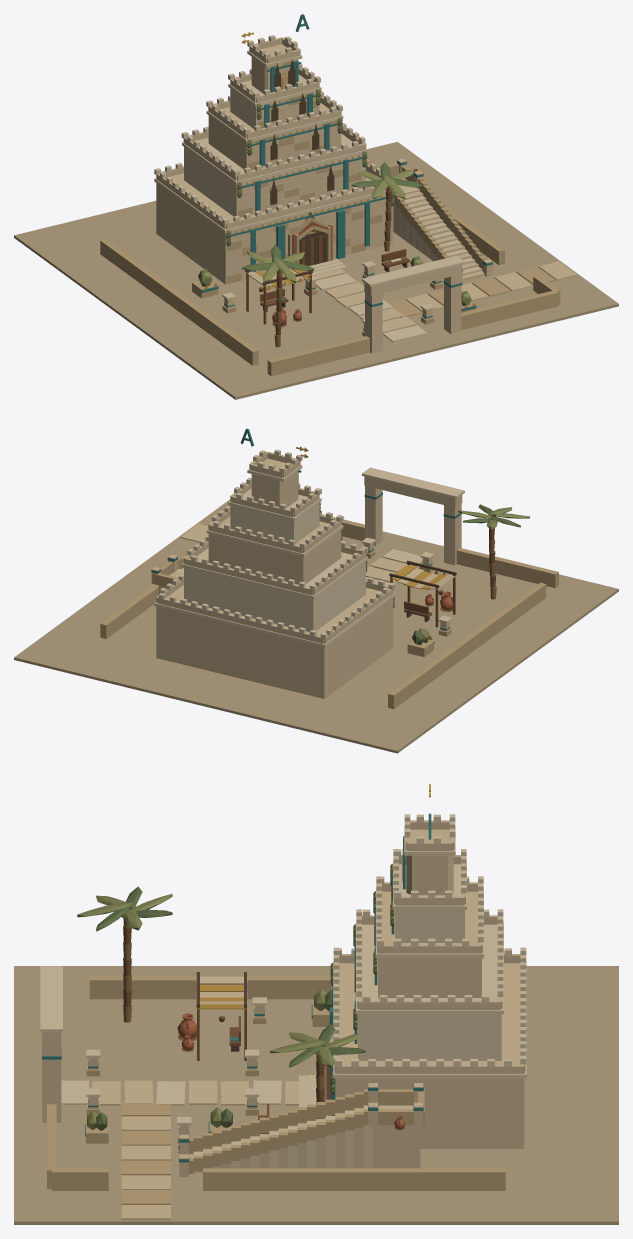
The model's file is main-building.glb.
3 views of the same model, one above another, from view 1: azimuth 30°, elevation 25°; view 2: azimuth 150°, elevation 25°; view 3: azimuth 270°, elevation 25° (orthographic). The views are drawn at different scales.
Visible parts, largest first — view 1: courtyard-ground-surface, stepped-building-surface, exterior-stair-surface, courtyard-arch-surface, main-portal-surface, rest-canopy-surface; view 2: courtyard-ground-surface, stepped-building-surface, courtyard-arch-surface, rest-canopy-surface, exterior-stair-surface, courtyard-palm-surface; view 3: courtyard-ground-surface, stepped-building-surface, exterior-stair-surface, courtyard-arch-surface, main-portal-surface, rest-canopy-surface, courtyard-palm-surface.
Boxes of the visible parts, left/top/right/bottom form: courtyard-ground-surface: left=14, top=142, right=618, bottom=399; stepped-building-surface: left=154, top=35, right=395, bottom=284; exterior-stair-surface: left=376, top=158, right=492, bottom=282; courtyard-arch-surface: left=362, top=255, right=464, bottom=353; main-portal-surface: left=276, top=210, right=346, bottom=277; rest-canopy-surface: left=245, top=269, right=312, bottom=324; courtyard-ground-surface: left=14, top=499, right=618, bottom=753; stepped-building-surface: left=154, top=449, right=395, bottom=698; courtyard-arch-surface: left=362, top=467, right=464, bottom=565; rest-canopy-surface: left=389, top=560, right=456, bottom=627; exterior-stair-surface: left=151, top=554, right=185, bottom=594; courtyard-palm-surface: left=489, top=516, right=496, bottom=599; courtyard-ground-surface: left=14, top=966, right=618, bottom=1224; stepped-building-surface: left=332, top=814, right=526, bottom=1148; exterior-stair-surface: left=179, top=1083, right=424, bottom=1176; courtyard-arch-surface: left=40, top=966, right=62, bottom=1122; main-portal-surface: left=299, top=1007, right=335, bottom=1115; rest-canopy-surface: left=196, top=972, right=246, bottom=1060; courtyard-palm-surface: left=123, top=909, right=131, bottom=1022.
Bounding box in the file's own units: 32 × 17.57 × 32.
